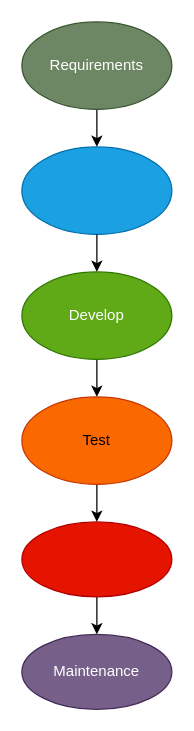
The diagram is 194 pixels wide and 731 high, and some of its shapes have lost their labels. Here are the shapes that lost their labels. From the top down, the box of each, then its label:
(21, 146, 172, 234): Design
(21, 521, 172, 597): Deploy
